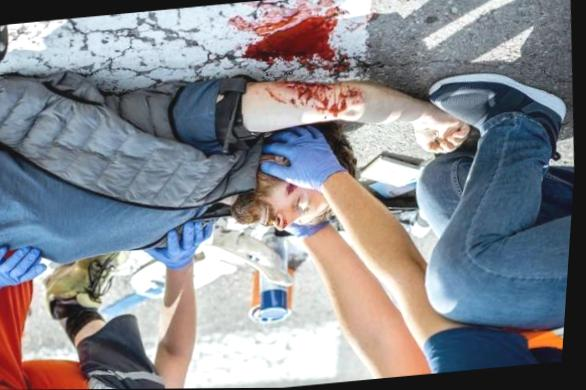Fire: (229, 0, 350, 71), (265, 82, 365, 117), (288, 184, 297, 195)
